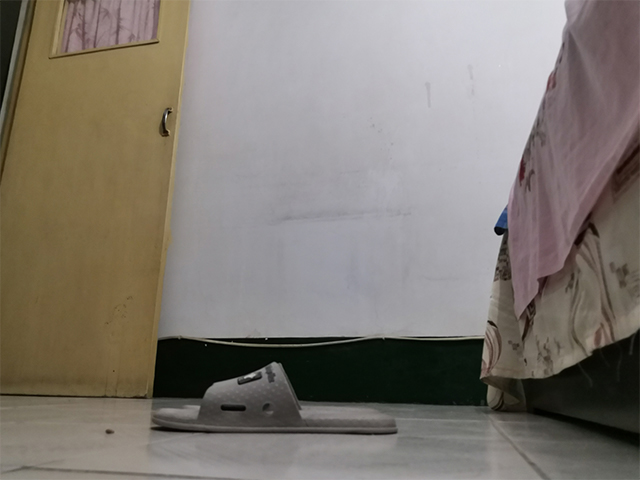bed: (476, 1, 640, 436)
slippers: (149, 358, 401, 436)
